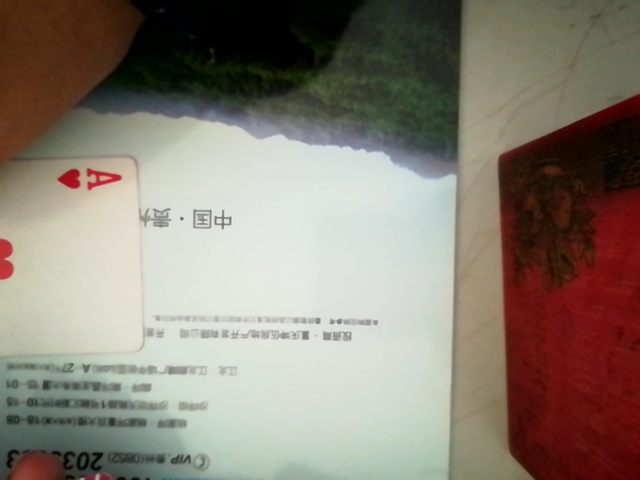hx a: (3, 153, 153, 355)
